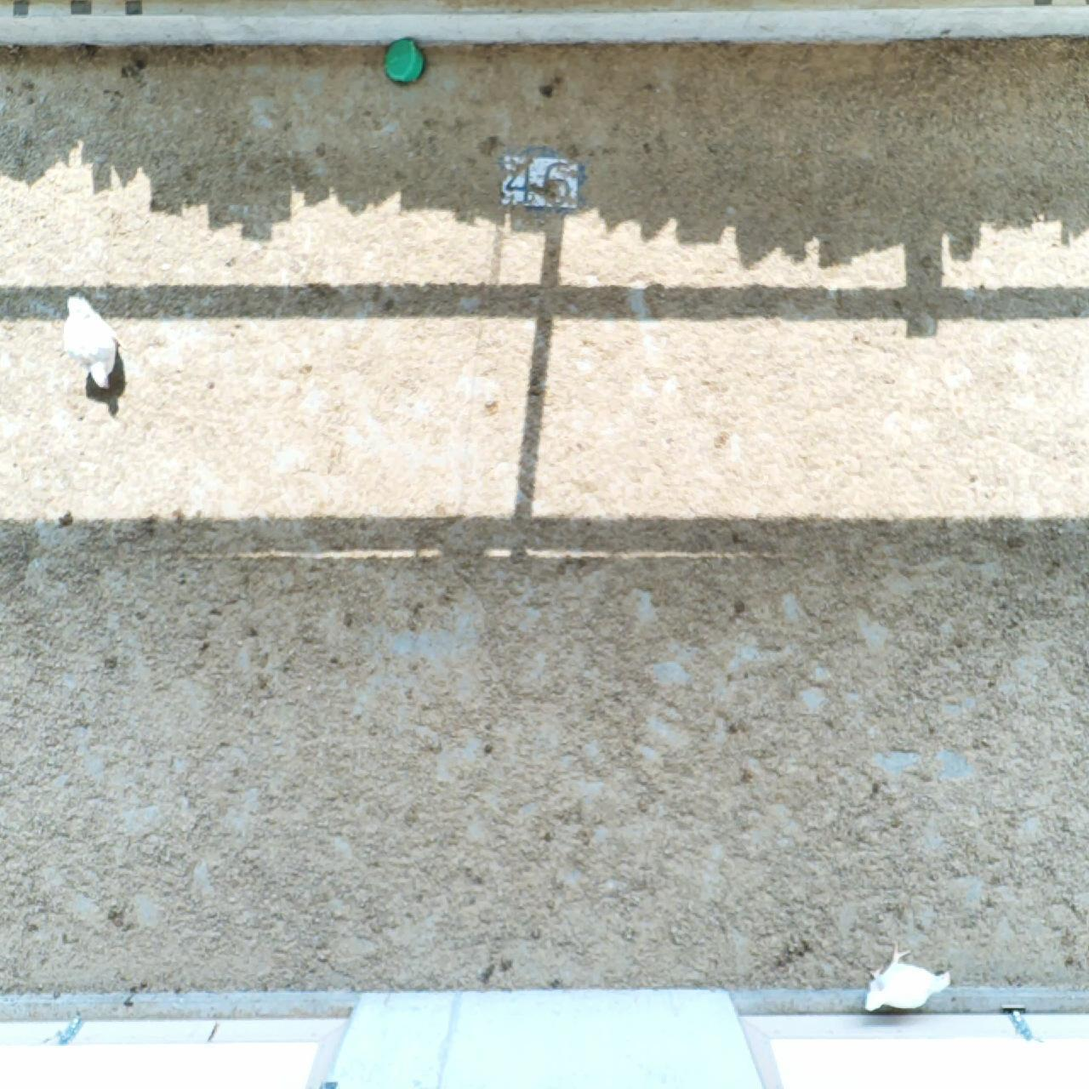chicken: (61, 292, 121, 390), (864, 944, 951, 1010)
